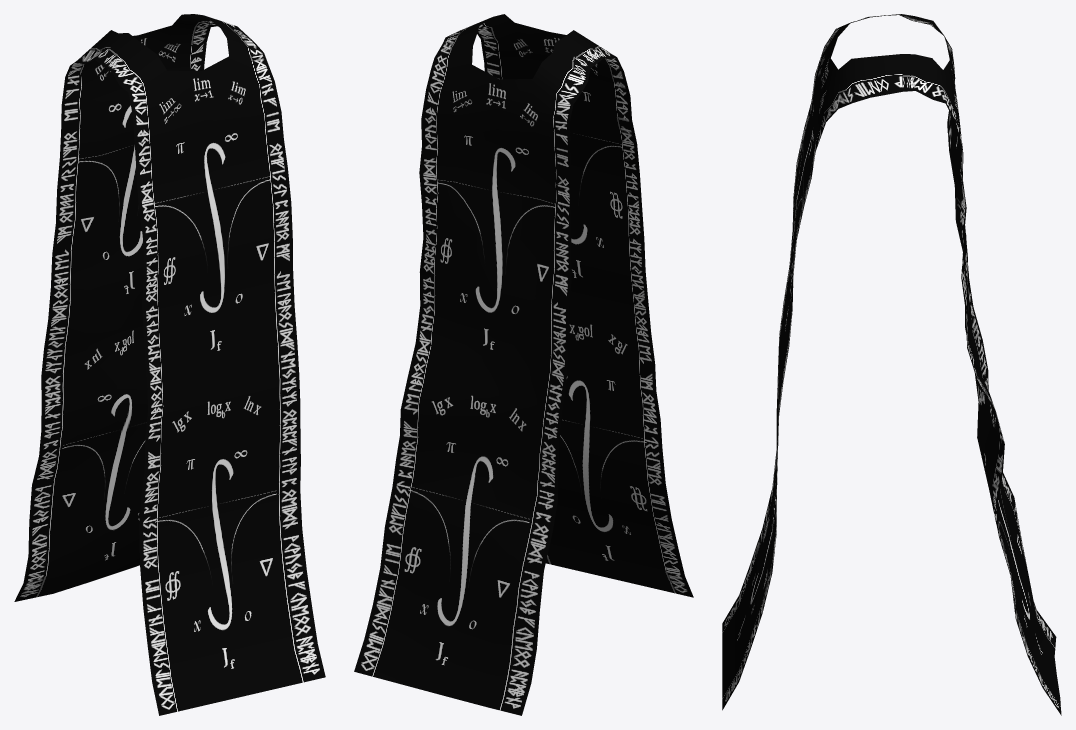
Rendered from sanya_robe_front.fbx.
3 renders of one model, left to right at view 1: azimuth 30°, elevation 25°; view 2: azimuth 150°, elevation 25°; view 3: azimuth 270°, elevation 25°, orthographic. The views are drawn at different scales.
Visible parts, largest first — view 1: robe_front.001; view 2: robe_front.001; view 3: robe_front.001.
Boxes of the visible parts, x1,y1,x2,y2 form: robe_front.001: (14,14,325,715); robe_front.001: (354,14,693,715); robe_front.001: (722,14,1061,715).
Size of the model in its own units: 51.58 by 168 by 79.97.
